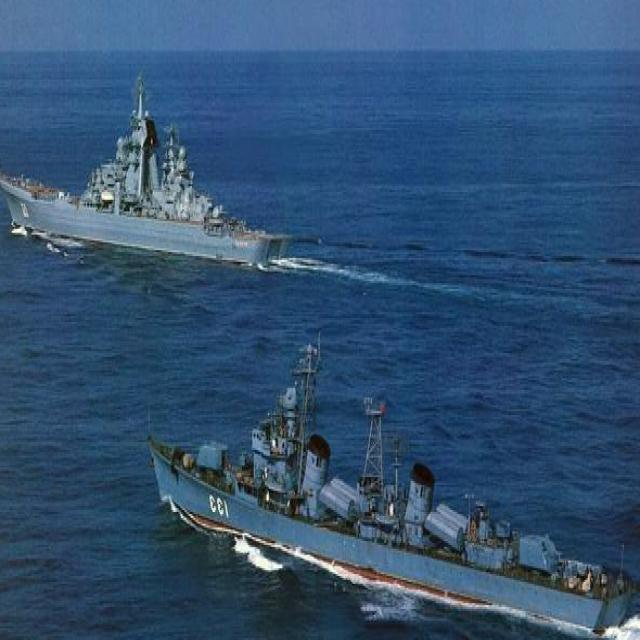navalvessels: (134, 346, 639, 629), (0, 58, 318, 275)
